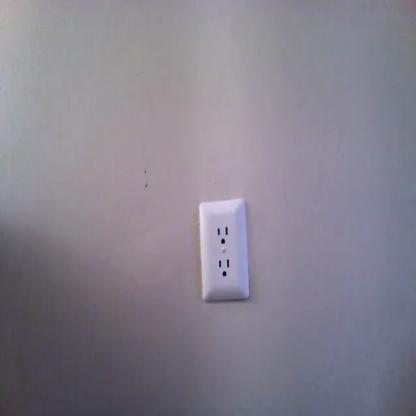OUTLET: (198, 200, 249, 298)
